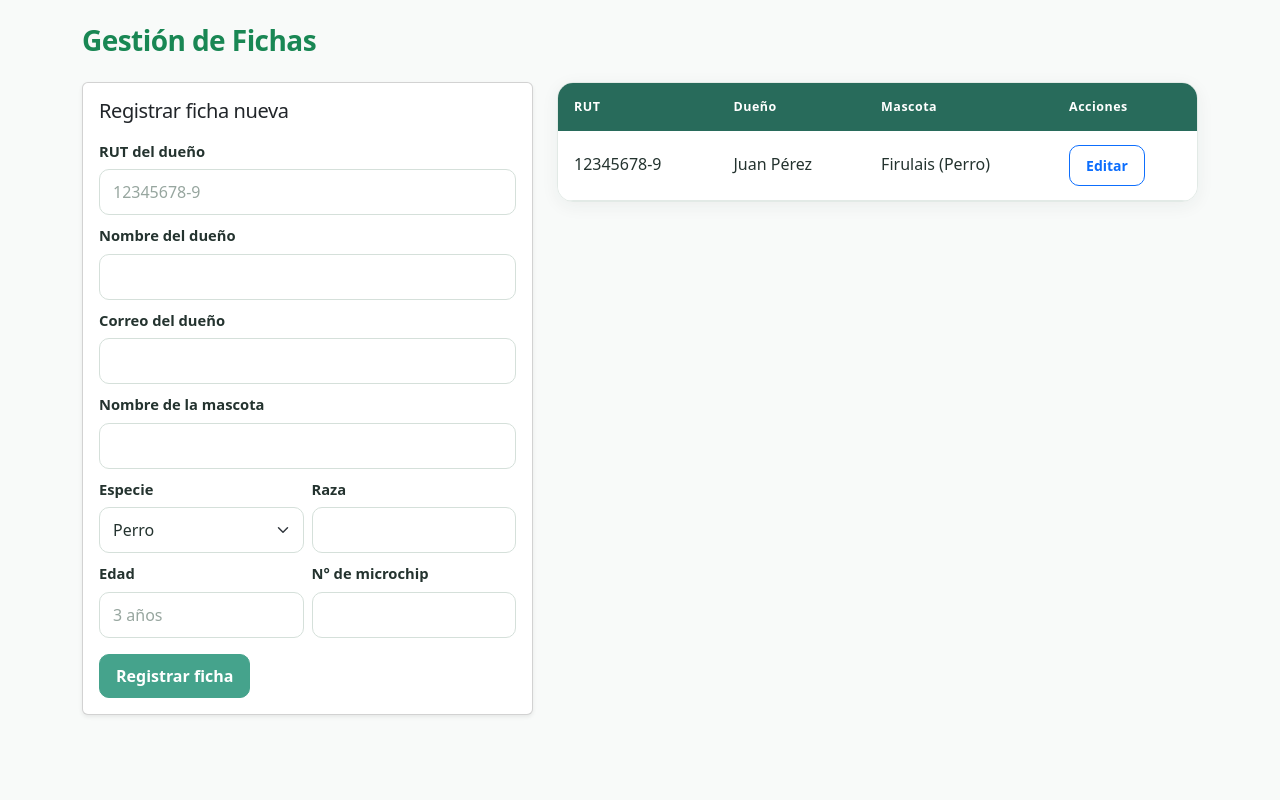
Test case: FichasPage › edita una ficha existente y guarda los cambios
Click the button with aria-label "Editar ficha de Firulais" at (1107, 165), box [1069,145,1145,186]
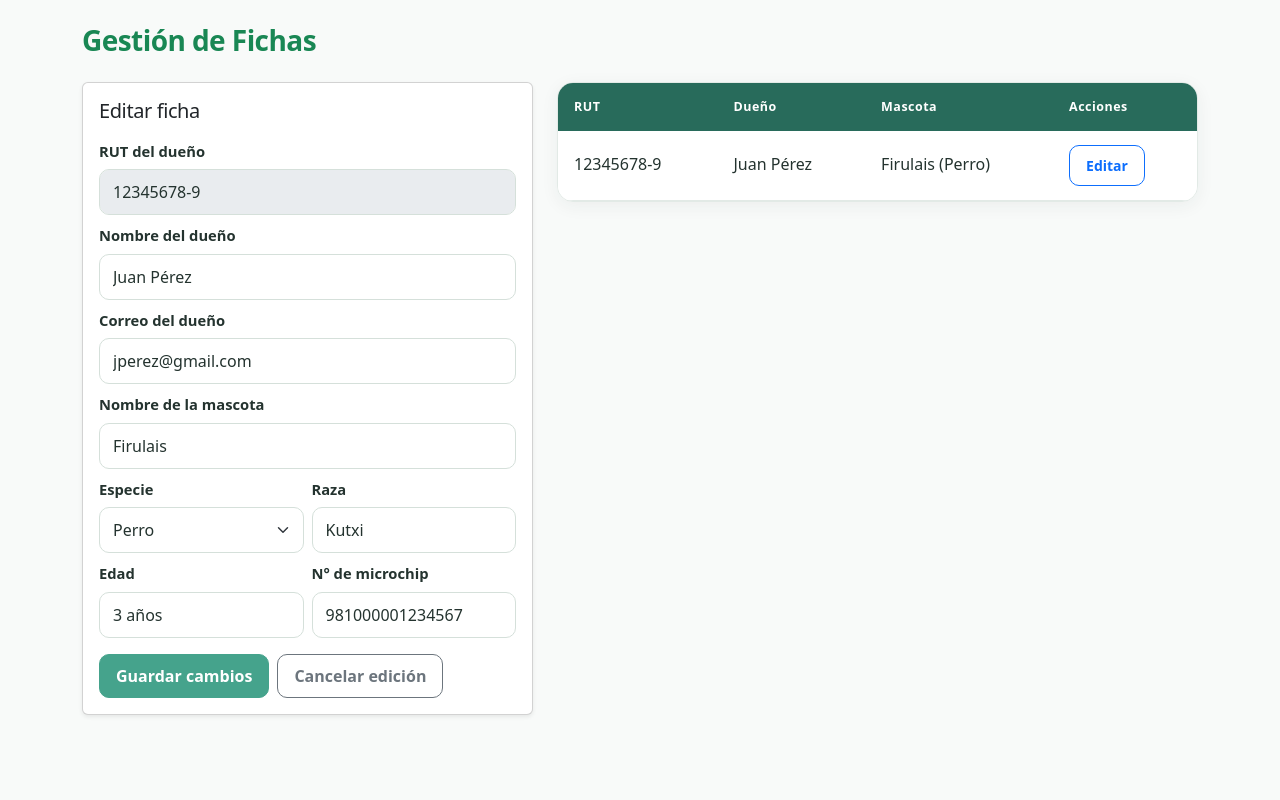
Check: the field labelled "RUT del dueño" is disabled, box [99,169,516,215]
Replace the text in the field labelled "Nombre de la mascota" with "Firu" at (308, 446), box [99,423,516,469]
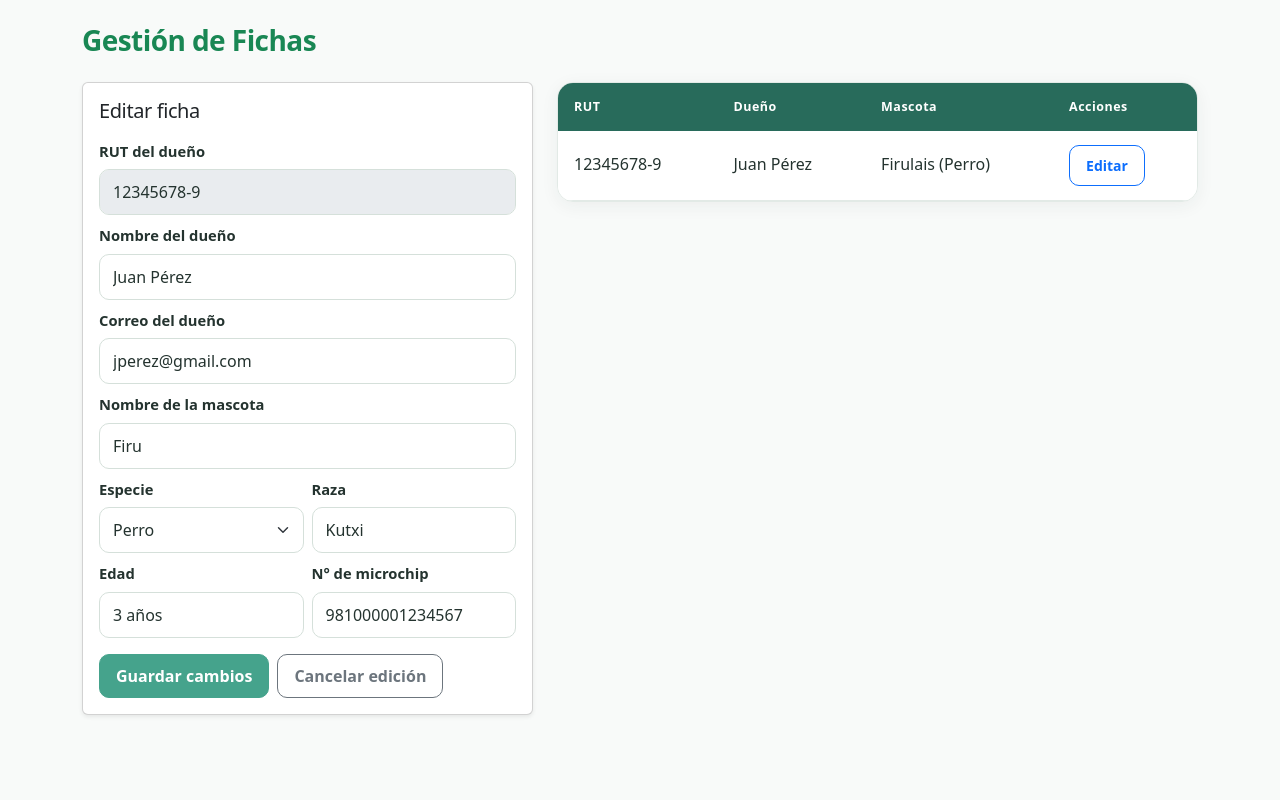
Click the button "Guardar cambios" at (184, 676), box [99,654,269,698]
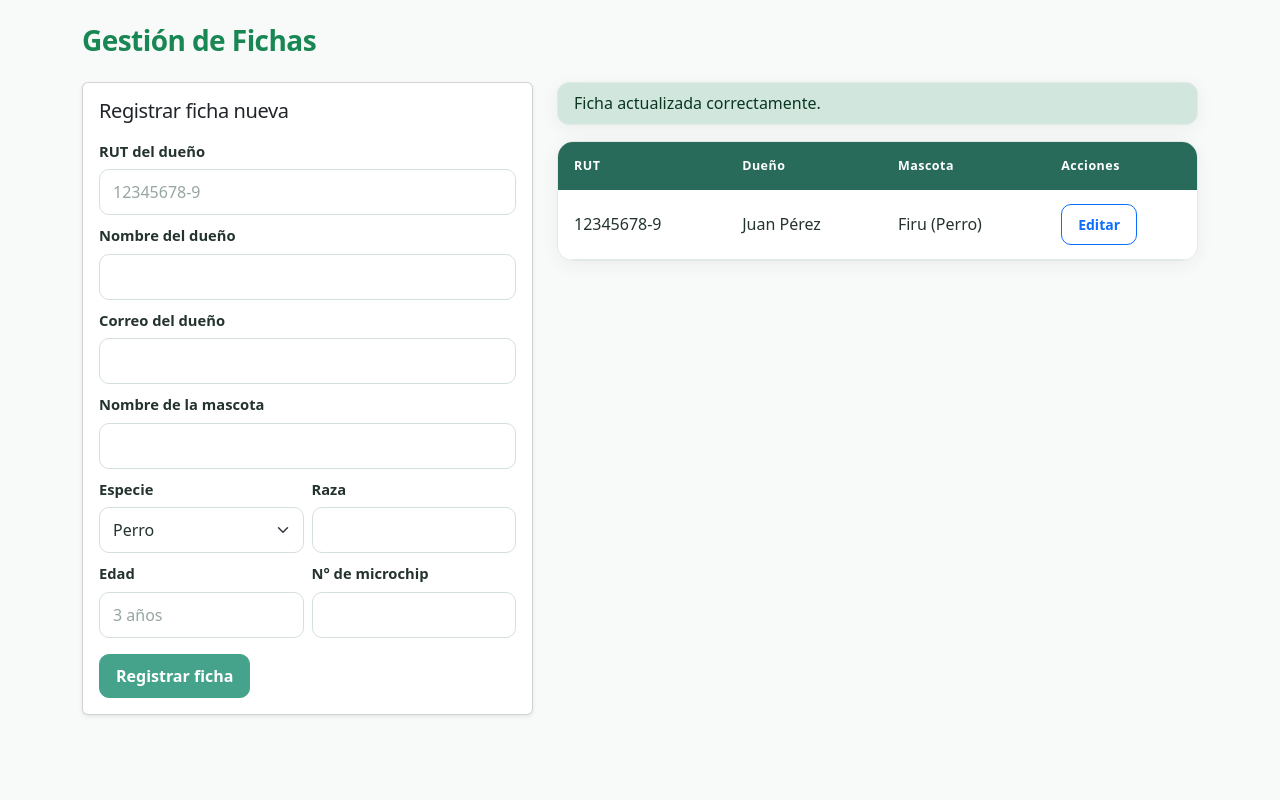
Check: the text "Ficha actualizada correctamente." is shown, box [557,82,1198,125]
Check: the text "Firu (Perro)" is shown, box [882,190,1045,260]
